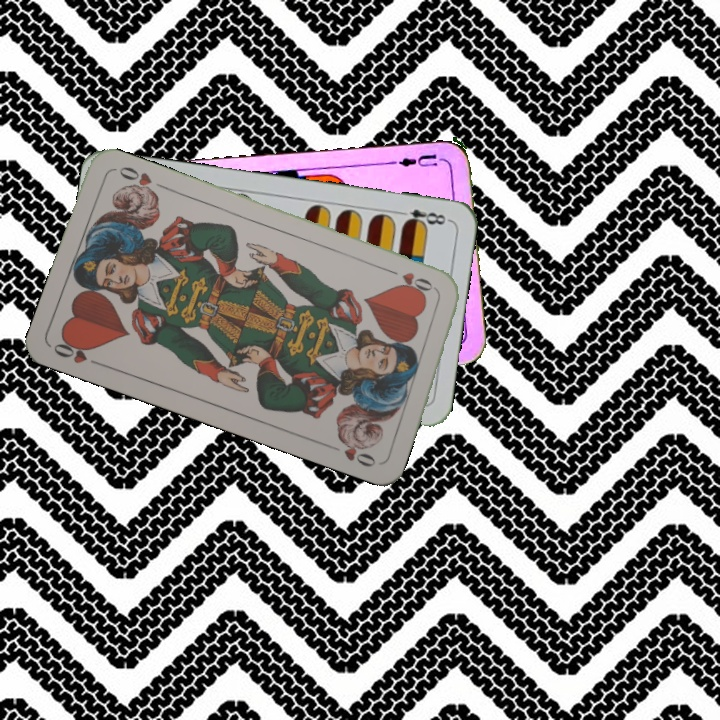E8: (393, 205, 452, 230)
EU: (386, 150, 440, 170)
HO: (49, 334, 106, 369), (384, 265, 441, 295)
